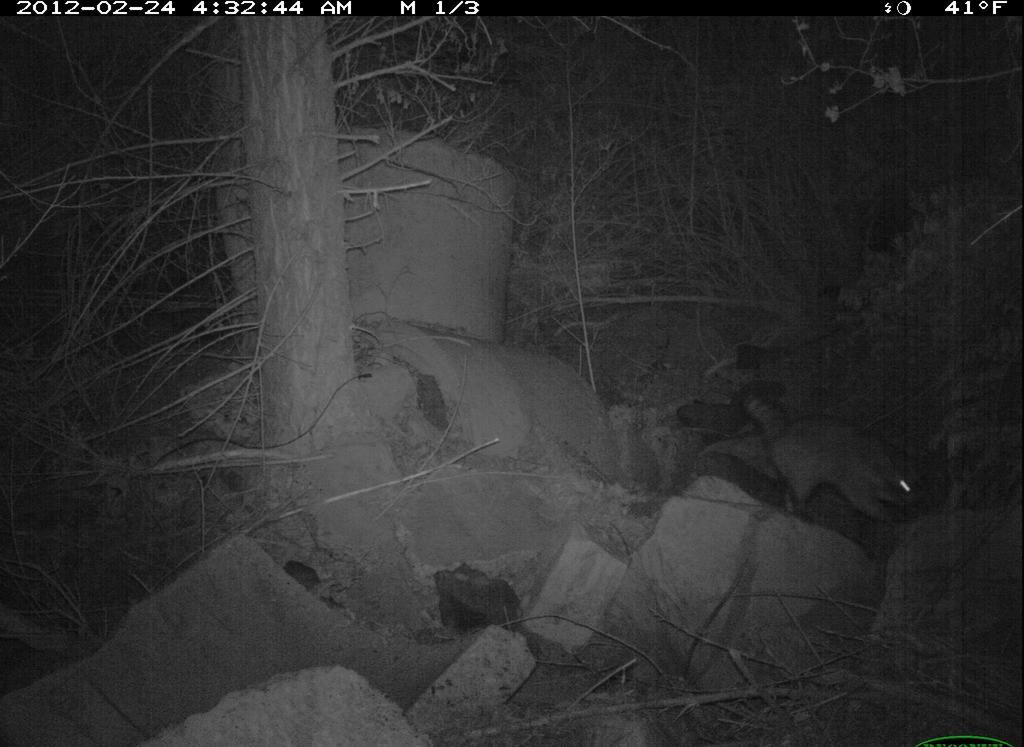raccoon: (716, 365, 952, 579)
